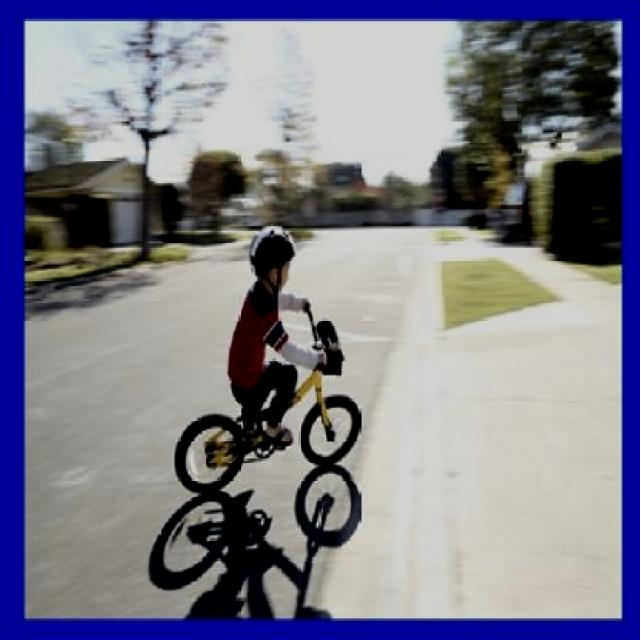With Helmet: (244, 218, 298, 299)
